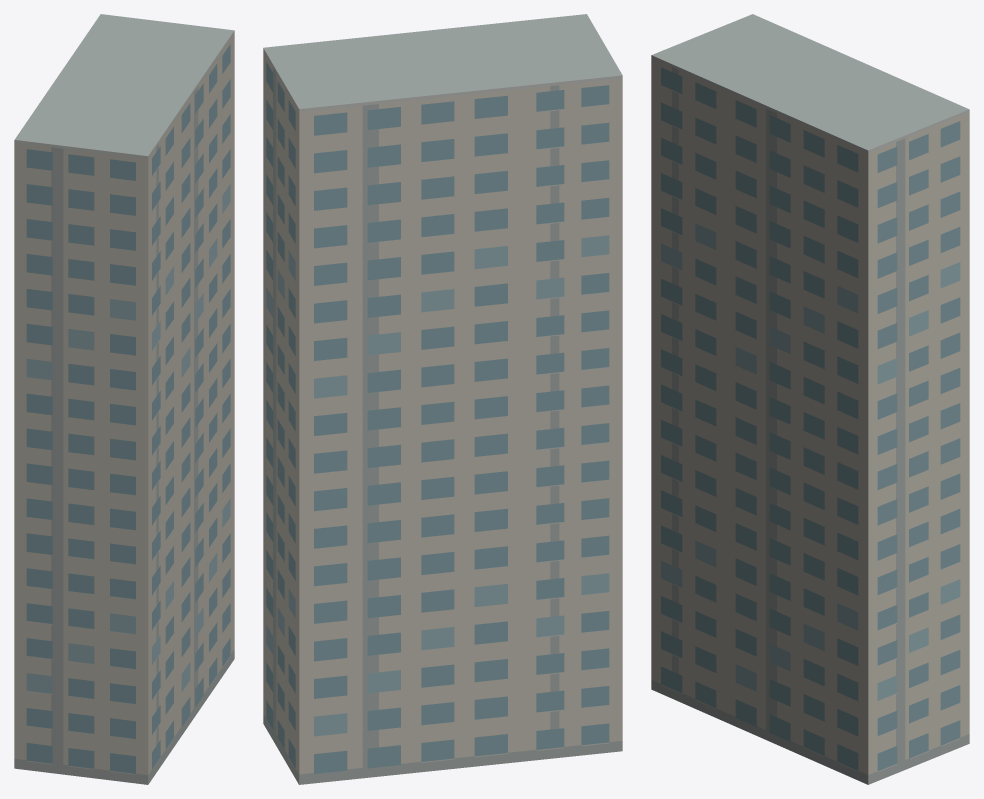
File: residential-242d5eff-989a-43be-bb9f-08e1b37f9fc2.glb
The picture shows the model from 3 angles, left to right: view 1: azimuth 30°, elevation 25°; view 2: azimuth 150°, elevation 25°; view 3: azimuth 270°, elevation 25°; orthographic projection. The views are drawn at different scales.
Visible parts, largest first — view 1: residential-242d5eff-989a-43be-bb9f-08e1b37f9fc2.tmp; view 2: residential-242d5eff-989a-43be-bb9f-08e1b37f9fc2.tmp; view 3: residential-242d5eff-989a-43be-bb9f-08e1b37f9fc2.tmp.
Boxes of the visible parts, left/top/right/bottom form: residential-242d5eff-989a-43be-bb9f-08e1b37f9fc2.tmp: left=14, top=14, right=234, bottom=784; residential-242d5eff-989a-43be-bb9f-08e1b37f9fc2.tmp: left=263, top=14, right=622, bottom=784; residential-242d5eff-989a-43be-bb9f-08e1b37f9fc2.tmp: left=651, top=14, right=969, bottom=784.
Size of the model in its own units: 24.47 by 53 by 24.09.
